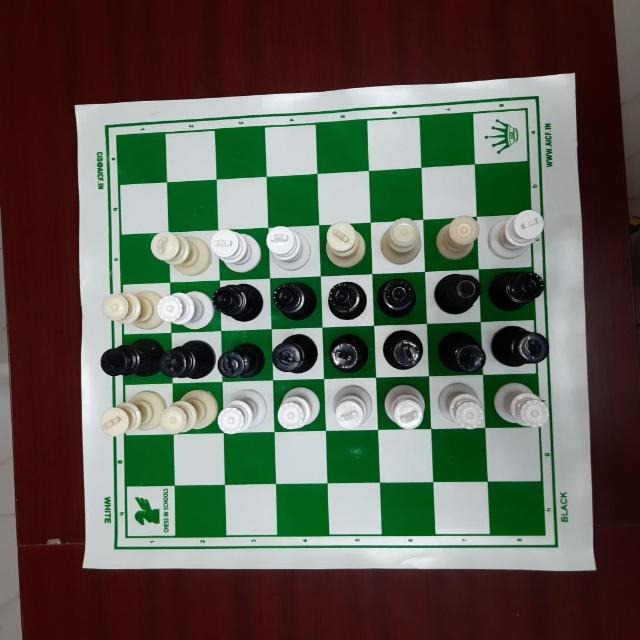black-king: (99, 331, 163, 383), (490, 318, 551, 371), (156, 334, 213, 379), (269, 329, 321, 378), (378, 324, 426, 376), (215, 333, 265, 382), (437, 328, 487, 376), (327, 334, 371, 376)
black-queen: (485, 263, 549, 315), (210, 282, 272, 326), (265, 278, 317, 326), (434, 271, 484, 319), (372, 270, 416, 322), (321, 273, 368, 321)
white-king: (106, 383, 167, 440), (491, 206, 549, 262), (150, 230, 214, 276), (327, 381, 378, 435), (208, 226, 263, 276), (384, 381, 432, 436), (261, 224, 318, 268), (321, 221, 369, 272)
white-queen: (493, 381, 554, 437), (217, 387, 275, 440), (166, 390, 222, 444), (152, 284, 213, 332), (98, 288, 163, 332), (437, 385, 493, 435), (278, 384, 324, 434), (429, 218, 479, 262), (378, 217, 418, 269)
